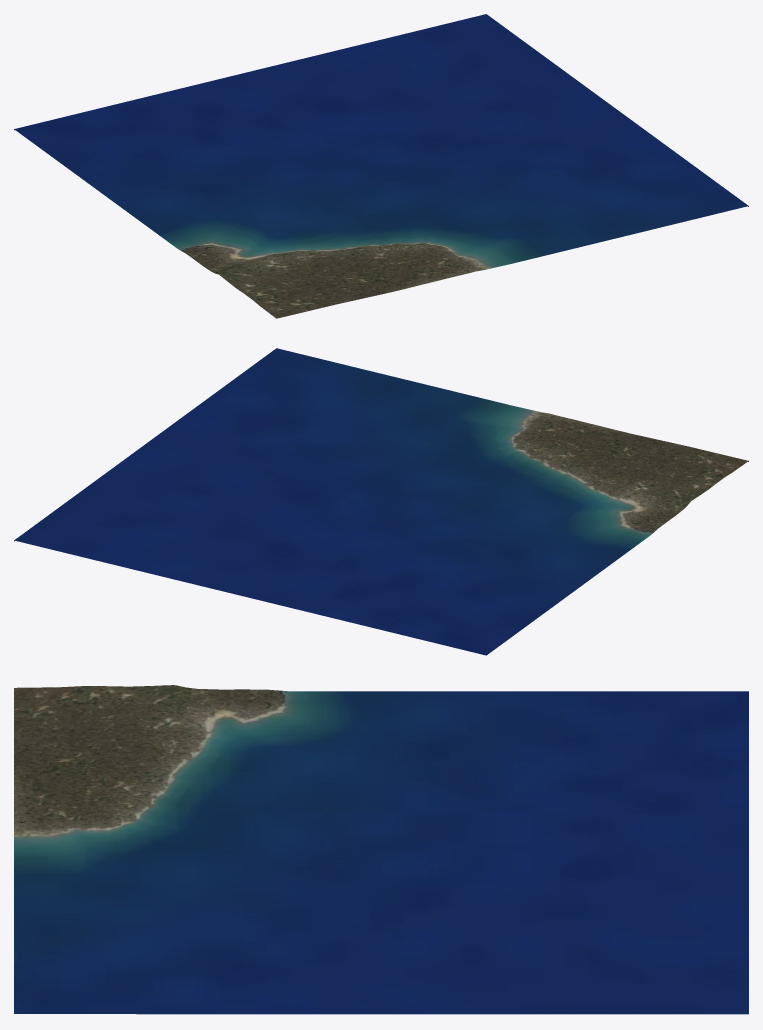
3 views of the same model, one above another, from view 1: azimuth 30°, elevation 25°; view 2: azimuth 150°, elevation 25°; view 3: azimuth 270°, elevation 25° (orthographic). The views are drawn at different scales.
Bounding box in the file's own units: 1000 × 11.98 × 963.
1 material, 1 textured.
